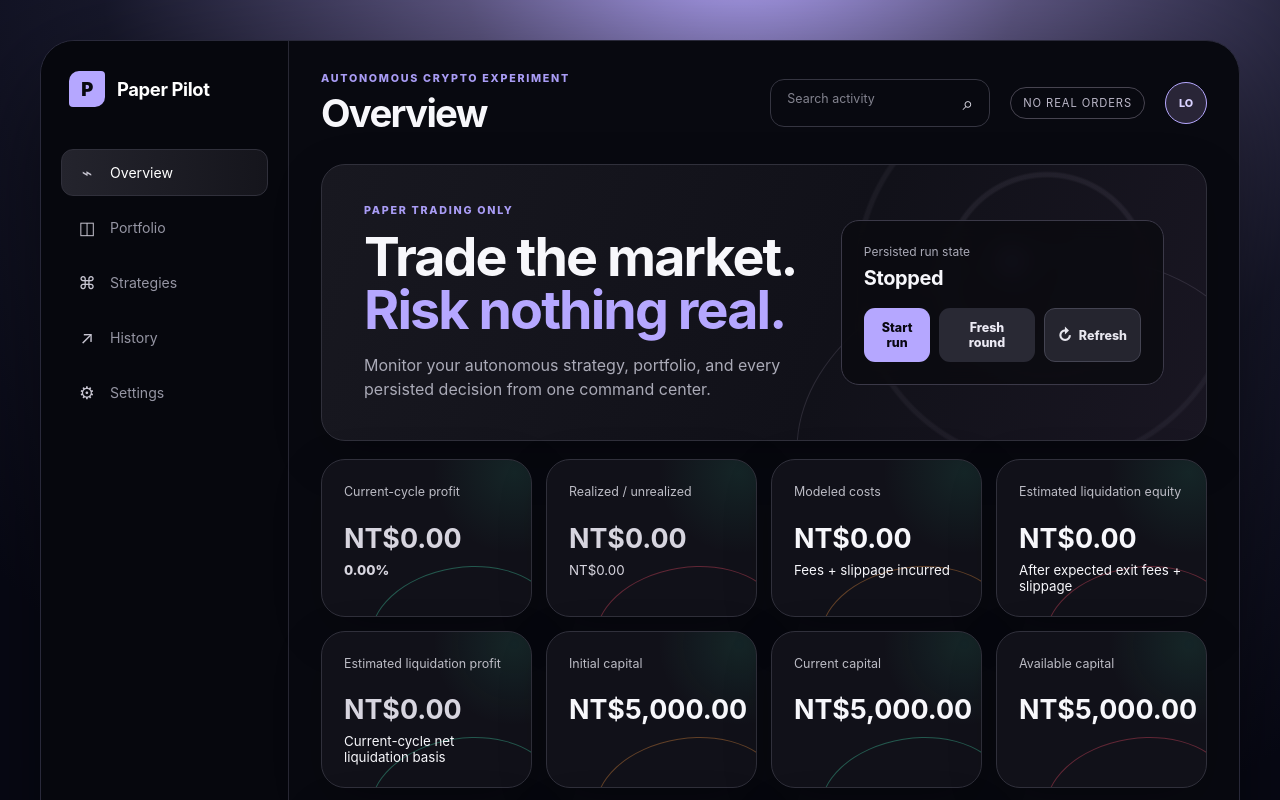
fresh round is available while stopped and starts through its dedicated endpoint
Click the button "Fresh round". click: {"x": 987, "y": 335}
box: [939, 308, 1034, 362]
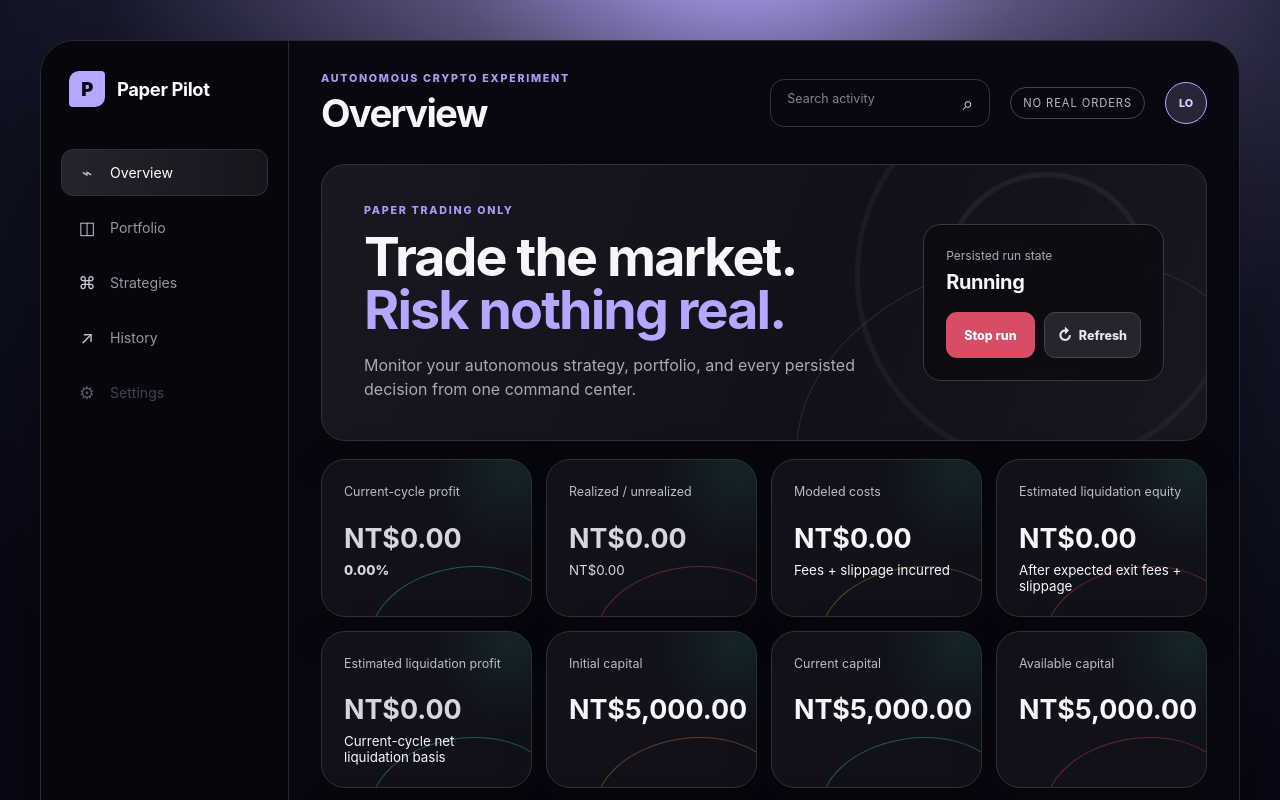
Result: the heading "Running" is shown at [946, 270, 1024, 294]
Result: the button "Fresh round" is gone
